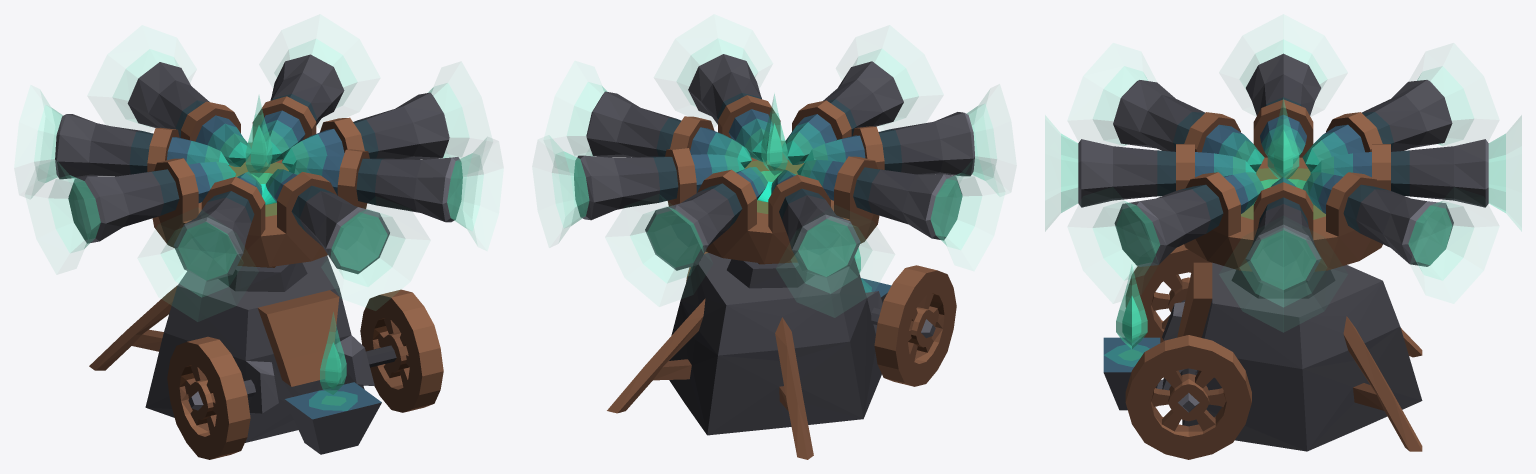
File: dwarf-cannon.gltf
3 renders of one model, left to right at view 1: azimuth 30°, elevation 25°; view 2: azimuth 150°, elevation 25°; view 3: azimuth 270°, elevation 25°, orthographic. The views are drawn at different scales.
Bounding box in the file's own units: 302 × 216 × 302.
2 materials, 2 textured.
